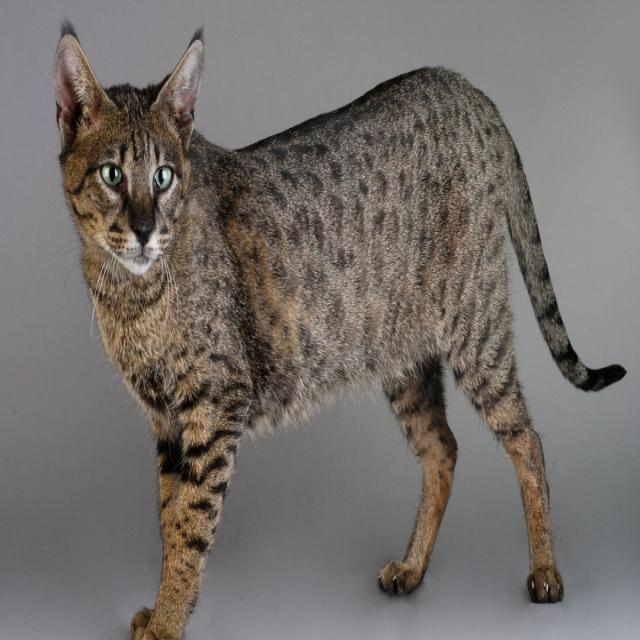Savannah: (49, 18, 630, 640)
